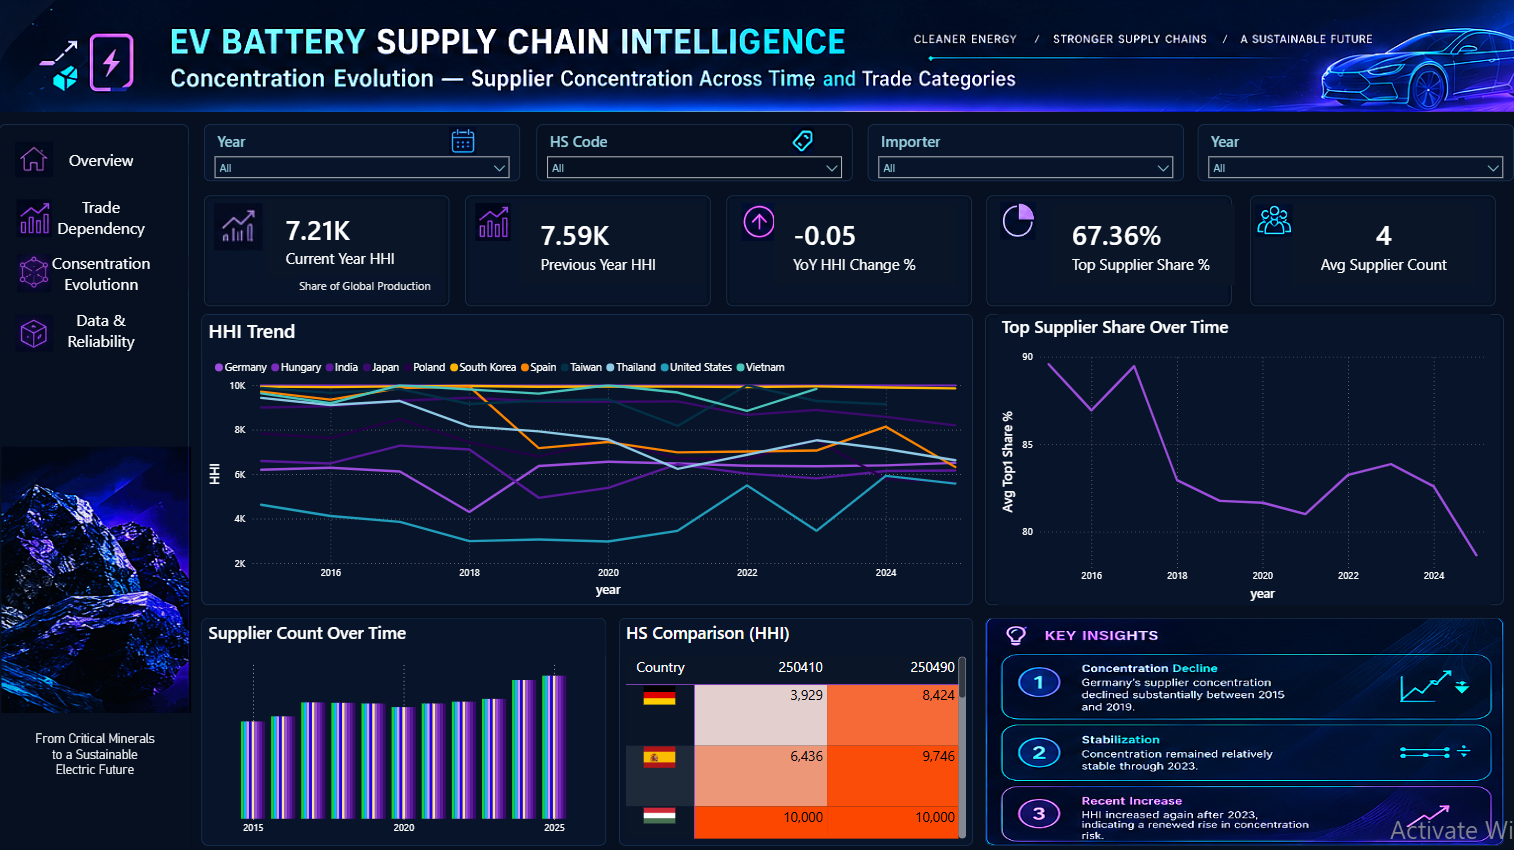

What the dashboard file says about the page in this screenshot:
{"tool":"powerbi","page":{"name":"Consentration Evolutionn ","canvas":[1920,1080],"ordinal":2},"visuals":[{"type":"shape","box":[0,168,240,72],"z":0,"group":"g6"},{"type":"shape","box":[24,240,192,72],"z":0,"group":"g7"},{"type":"shape","box":[590,250,310,140],"z":0},{"type":"shape","box":[920,250,310,140],"z":0,"group":"g1"},{"type":"shape","box":[0,312,240,72],"z":0,"group":"g8"},{"type":"shape","box":[24,384,192,72],"z":0,"group":"g9"},{"type":"actionButton","box":[34,168,192,72],"z":1000,"group":"g6"},{"type":"actionButton","box":[51.2,240,153.6,72],"z":1000,"group":"g7"},{"type":"shape","box":[1250,250,310,140],"z":1000},{"type":"actionButton","box":[34,312,192,72],"z":1000,"group":"g8"},{"type":"actionButton","box":[51.2,384,153.6,72],"z":1000,"group":"g9"},{"type":"shape","box":[1584,250,310,140],"z":2000},{"type":"image","box":[929,260,64,48],"z":2000,"group":"g1"},{"type":"shape","box":[260,250,310,140],"z":3000},{"type":"image","box":[0,0,1920,144],"z":4000},{"type":"cardVisual","fields":{"Data":["ev v_country_dependency.Previous Year HHI"]},"box":[656,256,240,112],"z":5000},{"type":"shape","title":"SIDEBAR","box":[0,160,240,910],"z":6000},{"type":"cardVisual","fields":{"Data":["ev v_country_dependency.Current Year HHI"]},"box":[333,250,230,110],"z":7000},{"type":"image","box":[1589,258,48,48],"z":8000},{"type":"textbox","box":[375,350,190,35],"z":9000},{"type":"image","box":[3,568,240,512],"z":10000},{"type":"image","box":[1257,258,64,48],"z":11000},{"type":"image","box":[593,260,64,48],"z":12000},{"type":"textbox","box":[0,904,243,176],"z":13000},{"type":"group","id":"g1","title":"KPI_3_Countries","box":[920,250,310,140],"z":14000},{"type":"slicer","title":"YEAR","fields":{"Values":["ev dim_date.year"]},"box":[260,160,400,72],"z":15000},{"type":"image","box":[570,163,35,35],"z":16000},{"type":"slicer","fields":{"Values":["ev v_country_dependency.hs_code"]},"box":[680,160,400,72],"z":17000},{"type":"slicer","title":"YEAR","fields":{"Values":["ev dim_country.country_name"]},"box":[1100,160,400,72],"z":18000},{"type":"slicer","title":"YEAR","fields":{"Values":["ev dim_date.year"]},"box":[1517,160,400,72],"z":19000},{"type":"image","box":[1000,163,35,35],"z":20000},{"type":"image","box":[270,260,65,60],"z":21000},{"type":"cardVisual","fields":{"Data":["ev v_country_dependency.YoY HHI Change %"]},"box":[976,256,240,112],"z":22000},{"type":"cardVisual","fields":{"Data":["ev v_supplier_share.Top Supplier Share %"]},"box":[1328,256,240,112],"z":23000},{"type":"cardVisual","fields":{"Data":["ev v_country_dependency.Avg Supplier Count"]},"box":[1632,256,240,112],"z":24000},{"type":"lineChart","title":"HHI Trend","fields":{"Category":["ev dim_date.year"],"Series":["ev dim_country.country_name"],"Y":["ev v_country_dependency.Avg HHI"]},"box":[256,400,976,368],"z":25000},{"type":"shape","box":[1248,400,656,368],"z":26000},{"type":"clusteredColumnChart","title":"Supplier Count Over Time","fields":{"Category":["ev dim_date.year"],"Series":["ev v_supplier_share.exporter_name"],"Y":["ev v_country_dependency.Avg Supplier Count"]},"box":[256,784,512,288],"z":27000},{"type":"pivotTable","title":"HS Comparison (HHI)","fields":{"Columns":["ev v_country_dependency.hs_code"],"Rows":["ev dim_country.flag_url"],"Values":["ev v_country_dependency.Avg HHI"]},"box":[784,784,448,288],"z":28000},{"type":"lineChart","title":"Top Supplier Share Over Time","fields":{"Category":["ev dim_date.year"],"Y":["ev v_country_dependency.Avg Top1 Share %"]},"box":[1264,400,624,368],"z":29000},{"type":"image","box":[1248,784,656,288],"z":30000},{"type":"group","id":"g2","title":"Group 2","box":[0,168,240,72],"z":30001},{"type":"group","id":"g3","title":"Group 3","box":[20,240,196,72],"z":30002},{"type":"group","id":"g4","title":"Group 4","box":[0,312,240,72],"z":30003},{"type":"group","id":"g5","title":"Group 5","box":[20,384,196,72],"z":30004},{"type":"group","id":"g6","title":"Group 1","box":[0,168,240,72],"z":34000,"group":"g2"},{"type":"group","id":"g7","title":"Group 1","box":[24,240,192,72],"z":35000,"group":"g3"},{"type":"group","id":"g8","title":"Group 1","box":[0,312,240,72],"z":36000,"group":"g4"},{"type":"group","id":"g9","title":"Group 1","box":[24,384,192,72],"z":37000,"group":"g5"},{"type":"image","box":[20,180,48,48],"z":37500,"group":"g2"},{"type":"image","box":[20,255,48,48],"z":37501,"group":"g3"},{"type":"image","box":[20,325,48,48],"z":37502,"group":"g4"},{"type":"image","box":[20,400,48,48],"z":37503,"group":"g5"}]}

Visuals, with their boxes on the page's 1920x1080 design canvas (x1, y1, x2, y2). These are canvas units, not pixel positions in the 1514x850 screenshot, which may show the page scaled, cropped or inside an application window:
shape: pyautogui.locateOnScreen(0, 168, 240, 240)
shape: pyautogui.locateOnScreen(24, 240, 216, 312)
shape: pyautogui.locateOnScreen(590, 250, 900, 390)
shape: pyautogui.locateOnScreen(920, 250, 1230, 390)
shape: pyautogui.locateOnScreen(0, 312, 240, 384)
shape: pyautogui.locateOnScreen(24, 384, 216, 456)
actionButton: pyautogui.locateOnScreen(34, 168, 226, 240)
actionButton: pyautogui.locateOnScreen(51, 240, 205, 312)
shape: pyautogui.locateOnScreen(1250, 250, 1560, 390)
actionButton: pyautogui.locateOnScreen(34, 312, 226, 384)
actionButton: pyautogui.locateOnScreen(51, 384, 205, 456)
shape: pyautogui.locateOnScreen(1584, 250, 1894, 390)
image: pyautogui.locateOnScreen(929, 260, 993, 308)
shape: pyautogui.locateOnScreen(260, 250, 570, 390)
image: pyautogui.locateOnScreen(0, 0, 1920, 144)
cardVisual - ev v_country_dependency.Previous Year HHI: pyautogui.locateOnScreen(656, 256, 896, 368)
"SIDEBAR" shape: pyautogui.locateOnScreen(0, 160, 240, 1070)
cardVisual - ev v_country_dependency.Current Year HHI: pyautogui.locateOnScreen(333, 250, 563, 360)
image: pyautogui.locateOnScreen(1589, 258, 1637, 306)
textbox: pyautogui.locateOnScreen(375, 350, 565, 385)
image: pyautogui.locateOnScreen(3, 568, 243, 1080)
image: pyautogui.locateOnScreen(1257, 258, 1321, 306)
image: pyautogui.locateOnScreen(593, 260, 657, 308)
textbox: pyautogui.locateOnScreen(0, 904, 243, 1080)
"KPI_3_Countries" group: pyautogui.locateOnScreen(920, 250, 1230, 390)
"YEAR" slicer: pyautogui.locateOnScreen(260, 160, 660, 232)
image: pyautogui.locateOnScreen(570, 163, 605, 198)
slicer - ev v_country_dependency.hs_code: pyautogui.locateOnScreen(680, 160, 1080, 232)
"YEAR" slicer: pyautogui.locateOnScreen(1100, 160, 1500, 232)
"YEAR" slicer: pyautogui.locateOnScreen(1517, 160, 1917, 232)
image: pyautogui.locateOnScreen(1000, 163, 1035, 198)
image: pyautogui.locateOnScreen(270, 260, 335, 320)
cardVisual - ev v_country_dependency.YoY HHI Change %: pyautogui.locateOnScreen(976, 256, 1216, 368)
cardVisual - ev v_supplier_share.Top Supplier Share %: pyautogui.locateOnScreen(1328, 256, 1568, 368)
cardVisual - ev v_country_dependency.Avg Supplier Count: pyautogui.locateOnScreen(1632, 256, 1872, 368)
"HHI Trend" lineChart: pyautogui.locateOnScreen(256, 400, 1232, 768)
shape: pyautogui.locateOnScreen(1248, 400, 1904, 768)
"Supplier Count Over Time" clusteredColumnChart: pyautogui.locateOnScreen(256, 784, 768, 1072)
"HS Comparison (HHI)" pivotTable: pyautogui.locateOnScreen(784, 784, 1232, 1072)
"Top Supplier Share Over Time" lineChart: pyautogui.locateOnScreen(1264, 400, 1888, 768)
image: pyautogui.locateOnScreen(1248, 784, 1904, 1072)
"Group 2" group: pyautogui.locateOnScreen(0, 168, 240, 240)
"Group 3" group: pyautogui.locateOnScreen(20, 240, 216, 312)
"Group 4" group: pyautogui.locateOnScreen(0, 312, 240, 384)
"Group 5" group: pyautogui.locateOnScreen(20, 384, 216, 456)
"Group 1" group: pyautogui.locateOnScreen(0, 168, 240, 240)
"Group 1" group: pyautogui.locateOnScreen(24, 240, 216, 312)
"Group 1" group: pyautogui.locateOnScreen(0, 312, 240, 384)
"Group 1" group: pyautogui.locateOnScreen(24, 384, 216, 456)
image: pyautogui.locateOnScreen(20, 180, 68, 228)
image: pyautogui.locateOnScreen(20, 255, 68, 303)
image: pyautogui.locateOnScreen(20, 325, 68, 373)
image: pyautogui.locateOnScreen(20, 400, 68, 448)
